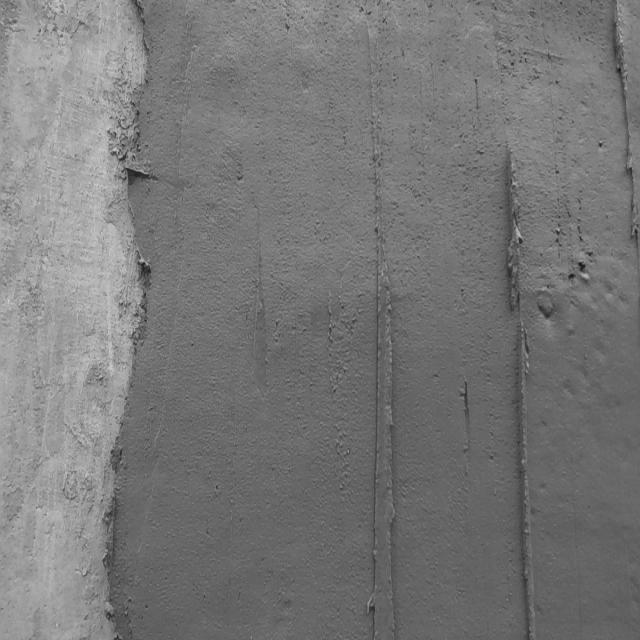trowels marks: (506, 134, 541, 640), (372, 240, 398, 640), (612, 4, 638, 251)
